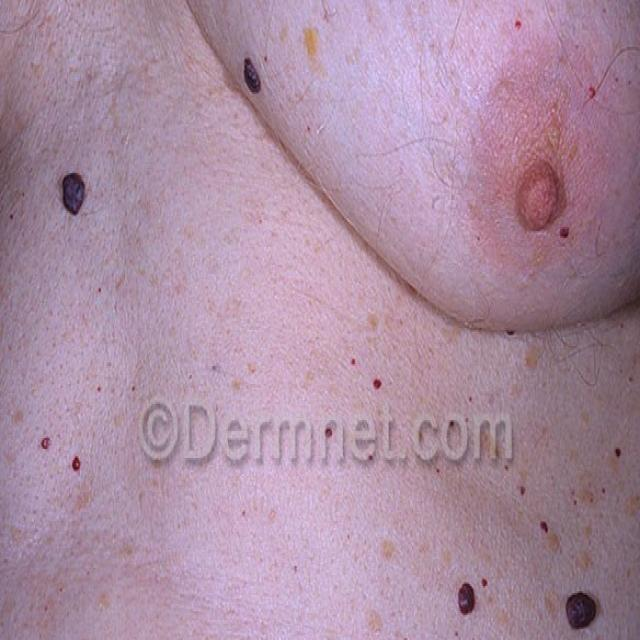Vascular Tumors: (508, 17, 606, 105), (21, 411, 88, 500), (557, 562, 601, 640), (449, 551, 486, 640), (50, 157, 93, 231), (235, 51, 282, 113), (0, 36, 19, 151)
